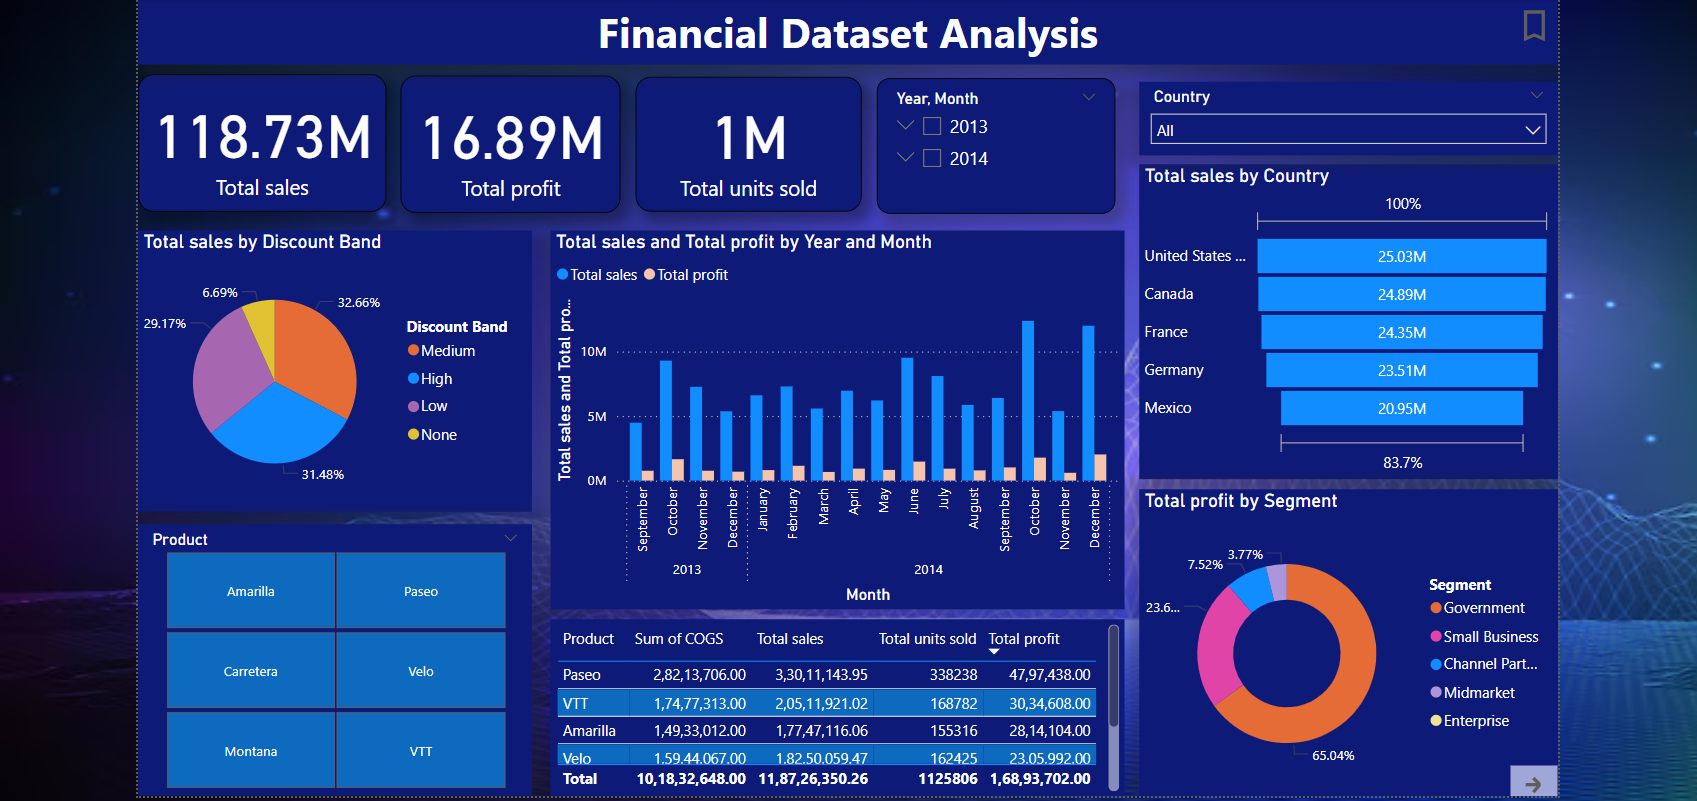

What the dashboard file says about the page in this screenshot:
{"tool":"powerbi","page":{"name":"Page 1","canvas":[1280,720],"ordinal":0},"visuals":[{"type":"card","fields":{"Values":["financials.Total sales"]},"box":[0,68.8,223.8,123.8],"z":0},{"type":"card","fields":{"Values":["financials.Total profit"]},"box":[236.2,70,198.8,123.8],"z":1000},{"type":"card","fields":{"Values":["financials.Total units sold"]},"box":[448.8,71.2,203.8,121.2],"z":2000},{"type":"textbox","box":[0,0,1280,60],"z":3000},{"type":"clusteredColumnChart","fields":{"Y":["financials.Total sales","financials.Total profit"],"Category":["financials.Date.Variation.Date Hierarchy.Year","financials.Date.Variation.Date Hierarchy.Month"]},"box":[372.5,210,517.5,341.2],"z":4000},{"type":"funnel","fields":{"Category":["financials.Country"],"Y":["financials.Total sales"]},"box":[902.5,150,377.5,283.8],"z":5000},{"type":"donutChart","fields":{"Category":["financials.Segment"],"Y":["financials.Total profit"]},"box":[902.5,442.5,377.5,277.5],"z":6000},{"type":"pieChart","fields":{"Category":["financials.Discount Band"],"Y":["financials.Total sales"]},"box":[0,210,355,253.8],"z":7000},{"type":"slicer","fields":{"Values":["financials.Product"]},"box":[0,475,355,245],"z":8000},{"type":"slicer","fields":{"Values":["financials.Country"]},"box":[902.5,75,377.5,66.2],"z":9000},{"type":"slicer","fields":{"Values":["financials.Date.Variation.Date Hierarchy.Year","financials.Date.Variation.Date Hierarchy.Quarter","financials.Date.Variation.Date Hierarchy.Month"]},"box":[666.4,71.7,215,123.2],"z":10000},{"type":"tableEx","fields":{"Values":["financials.Product","Sum(financials.COGS)","financials.Total sales","financials.Total units sold","financials.Total profit"]},"box":[372.5,560,517.5,160],"z":11000},{"type":"actionButton","box":[1237.2,691.6,42.8,28.9],"z":12000},{"type":"actionButton","box":[1237.2,0,42.8,50.3],"z":13000}]}

Visuals, with their boxes on the page's 1280x720 design canvas (x1, y1, x2, y2). These are canvas units, not pixel positions in the 1697x801 screenshot, which may show the page scaled, cropped or inside an application window:
card - financials.Total sales: box=[0, 69, 224, 193]
card - financials.Total profit: box=[236, 70, 435, 194]
card - financials.Total units sold: box=[449, 71, 653, 192]
textbox: box=[0, 0, 1280, 60]
clusteredColumnChart - financials.Total sales x financials.Total profit: box=[372, 210, 890, 551]
funnel - financials.Country x financials.Total sales: box=[902, 150, 1280, 434]
donutChart - financials.Segment x financials.Total profit: box=[902, 442, 1280, 720]
pieChart - financials.Discount Band x financials.Total sales: box=[0, 210, 355, 464]
slicer - financials.Product: box=[0, 475, 355, 720]
slicer - financials.Country: box=[902, 75, 1280, 141]
slicer - financials.Date.Variation.Date Hierarchy.Year x financials.Date.Variation.Date Hierarchy.Quarter: box=[666, 72, 881, 195]
tableEx - financials.Product x Sum(financials.COGS): box=[372, 560, 890, 720]
actionButton: box=[1237, 692, 1280, 720]
actionButton: box=[1237, 0, 1280, 50]
